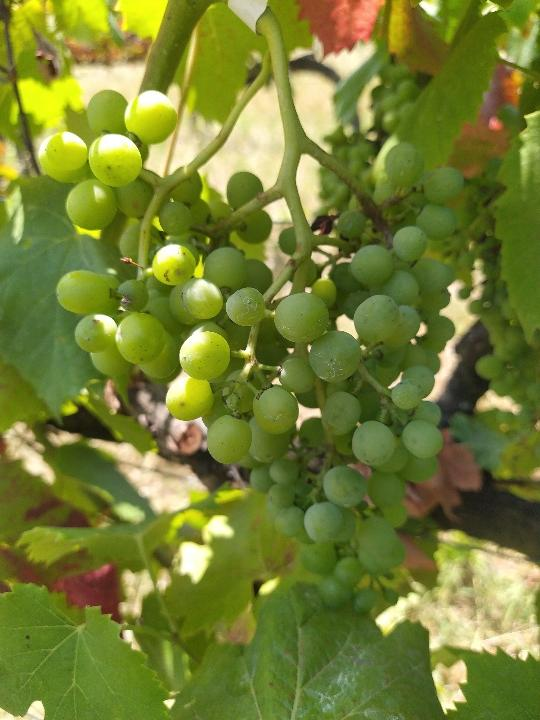grape: (35, 90, 464, 619)
